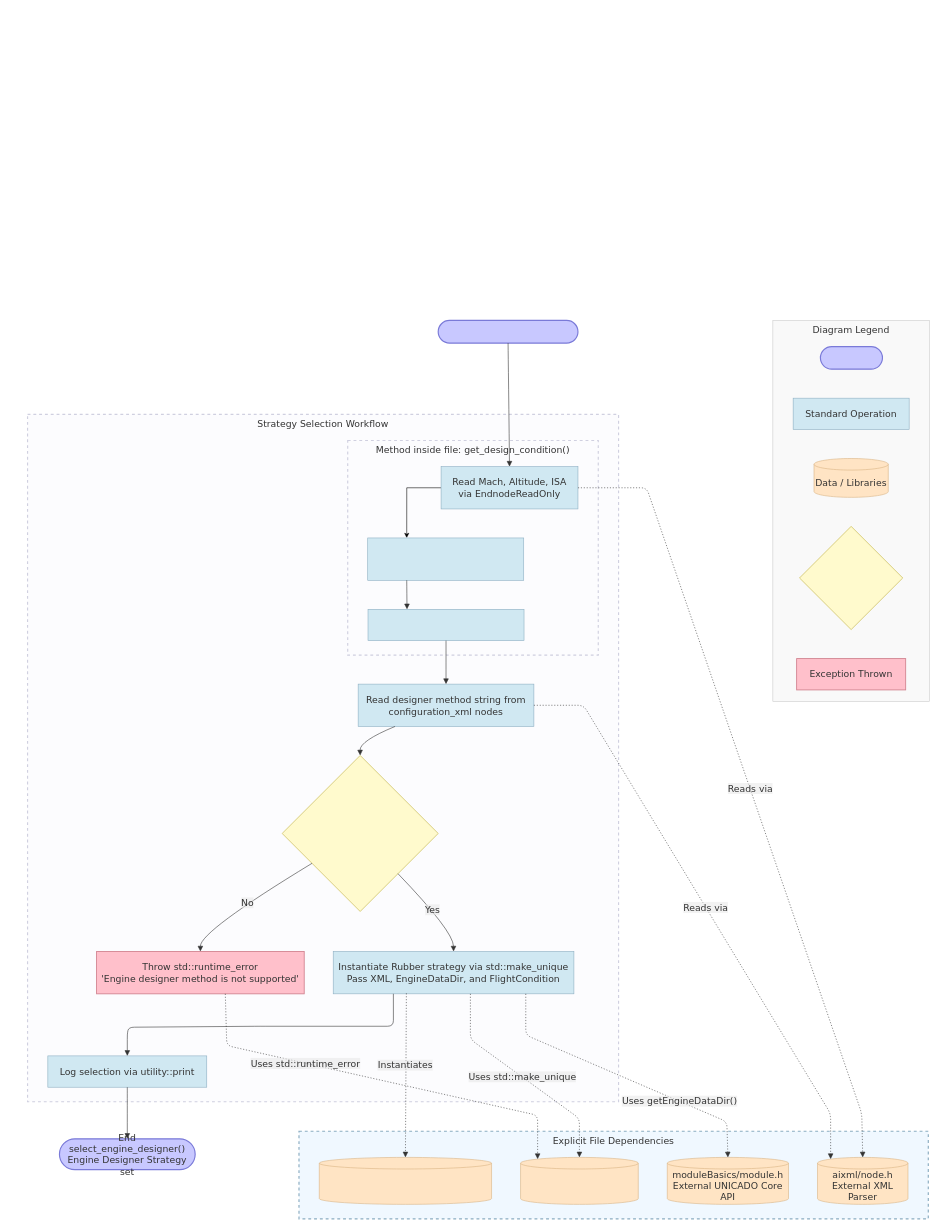
This 940x1229 diagram has some shape labels left out. The centre of each missing label's shape, as x and y in pixels:
C++ Standard Library memory, string, stdexcept: the point at 579,1180
Create atmosphere object Apply ISA offset: the point at 445,558
engine_design/rubber/rubber_design.h Local Strategy Class: the point at 405,1180
Entry / Exit: the point at 851,357
Is method == 'Rubber'?: the point at 359,833
Method Check: the point at 851,578
Return FlightCondition struct: the point at 445,625
Start select_engine_designer(): the point at 507,331
